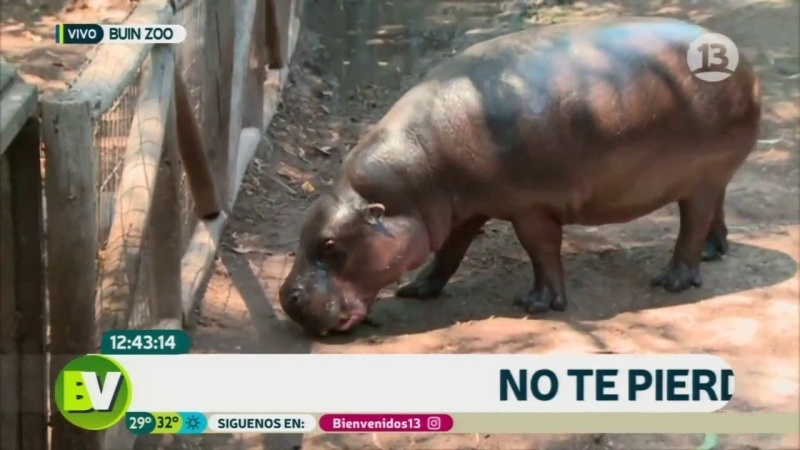hipopotamo: (265, 11, 768, 360)
